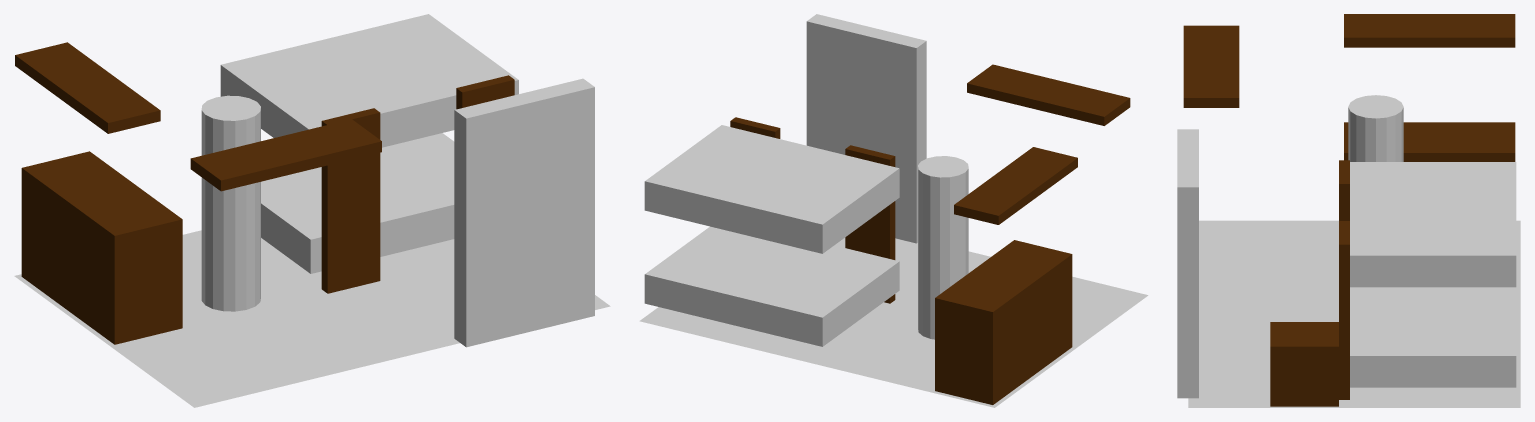
File: bedroom.glb
3 renders of one model, left to right at view 1: azimuth 30°, elevation 25°; view 2: azimuth 150°, elevation 25°; view 3: azimuth 270°, elevation 25°, orthographic. The views are drawn at different scales.
Parts seen in each view (by area): view 1: door, floor, desk, bed.001, bed, human-scale, shelf.003, shelf.001, shelf, shelf.004; view 2: bed.001, bed, desk, door, floor, human-scale, shelf.001, shelf, shelf.003, shelf.004; view 3: floor, bed.001, bed, door, side-table, shelf, shelf.001, desk, human-scale, shelf.004, shelf.003.
Part boxes in pixels (bbox=[...]): door: bbox=[454, 78, 594, 347]; floor: bbox=[14, 230, 610, 407]; desk: bbox=[21, 151, 182, 344]; bed.001: bbox=[220, 14, 518, 147]; bed: bbox=[261, 133, 454, 273]; human-scale: bbox=[201, 95, 260, 311]; shelf.003: bbox=[321, 108, 380, 293]; shelf.001: bbox=[190, 119, 381, 191]; shelf: bbox=[15, 42, 160, 133]; shelf.004: bbox=[456, 75, 514, 109]; bed.001: bbox=[644, 125, 899, 253]; bed: bbox=[644, 226, 899, 346]; desk: bbox=[935, 240, 1072, 404]; door: bbox=[806, 14, 926, 243]; floor: bbox=[639, 237, 1148, 407]; human-scale: bbox=[918, 156, 968, 339]; shelf.001: bbox=[967, 64, 1130, 125]; shelf: bbox=[954, 147, 1077, 224]; shelf.003: bbox=[845, 145, 895, 303]; shelf.004: bbox=[730, 117, 780, 138]; floor: bbox=[1188, 220, 1520, 407]; bed.001: bbox=[1350, 162, 1516, 287]; bed: bbox=[1350, 287, 1516, 387]; door: bbox=[1177, 129, 1198, 398]; side-table: bbox=[1270, 322, 1338, 406]; shelf: bbox=[1344, 14, 1515, 47]; shelf.001: bbox=[1183, 25, 1239, 107]; desk: bbox=[1344, 122, 1515, 161]; human-scale: bbox=[1348, 95, 1403, 161]; shelf.004: bbox=[1339, 221, 1349, 399]; shelf.003: bbox=[1339, 160, 1349, 220].
Size of the model in its own units: 4.02 by 2.1 by 3.1.
